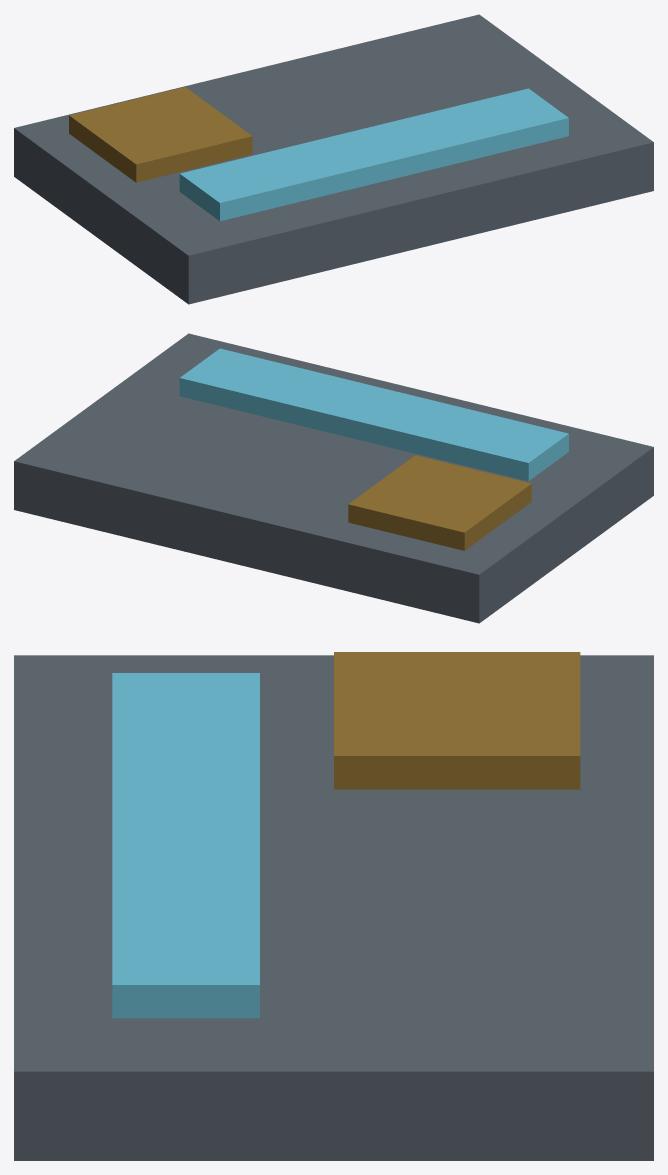
File: credit-chip.glb
3 renders of one model, top to bottom at view 1: azimuth 30°, elevation 25°; view 2: azimuth 150°, elevation 25°; view 3: azimuth 270°, elevation 25°, orthographic. The views are drawn at different scales.
Parts seen in each view (by area): view 1: m; view 2: m; view 3: m.
Boxes of the visible parts, box(x1,y1,x2,y2) form: m: box(14, 14, 653, 304); m: box(14, 333, 653, 623); m: box(14, 652, 653, 1160).
Size of the model in its own units: 0.04 by 0.00555 by 0.026.
